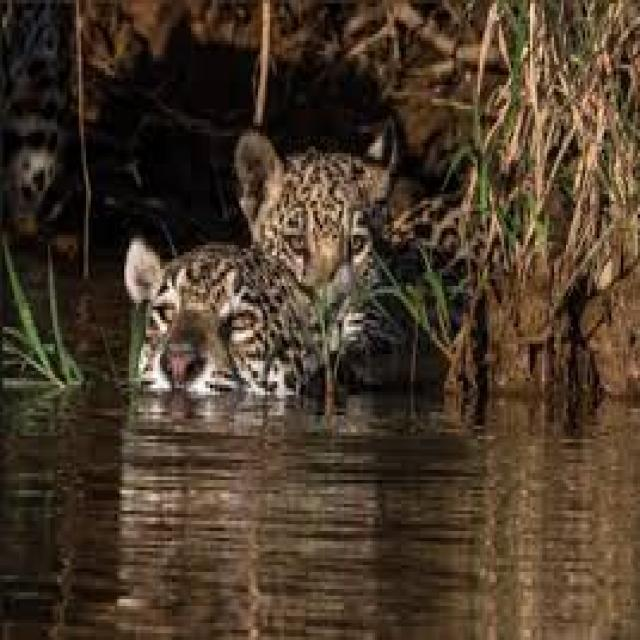Jaguar: (234, 123, 490, 388), (127, 235, 327, 405)
